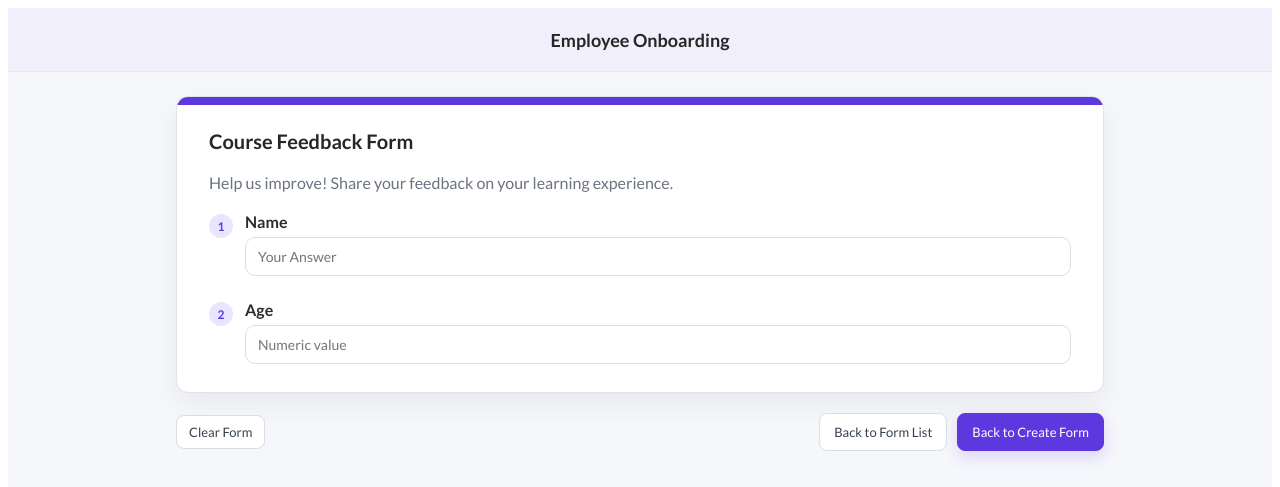
Test: clears form when Clear Form button is clicked
Fill in the form
Type "John Doe" into the field named "name" at (658, 256), box [245,237,1071,276]
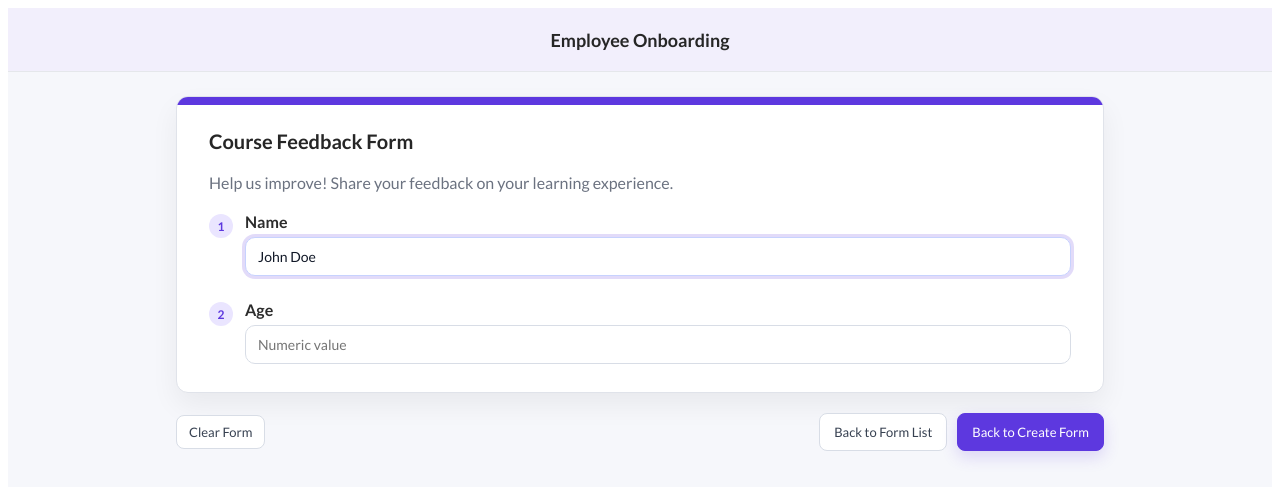
Type "30" into the field named "age" at (658, 344), box [245,325,1071,364]
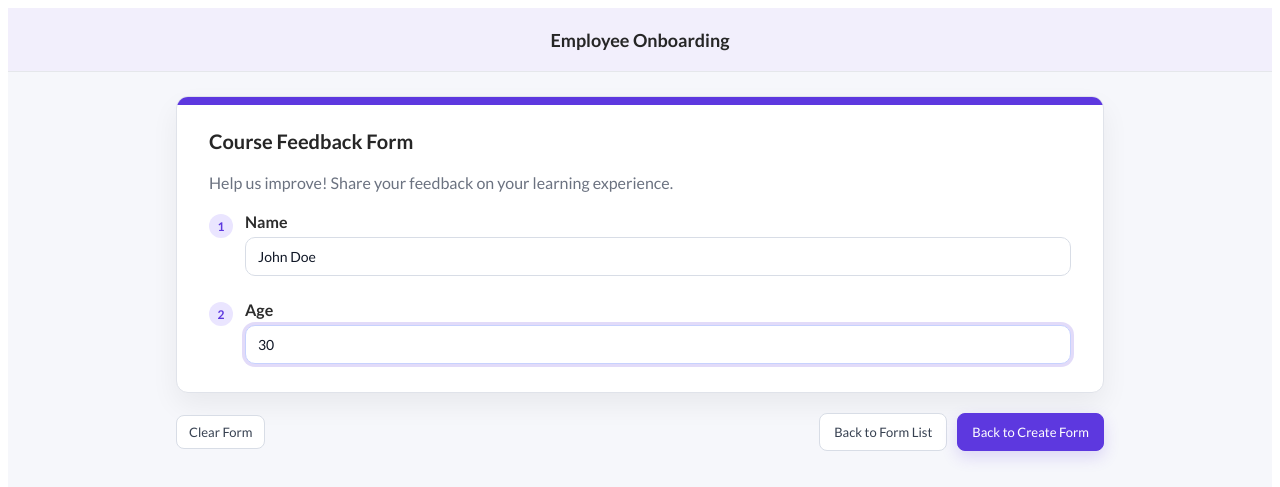
Clear the form
Click the button "Clear Form" at (221, 432), box [176,415,265,449]
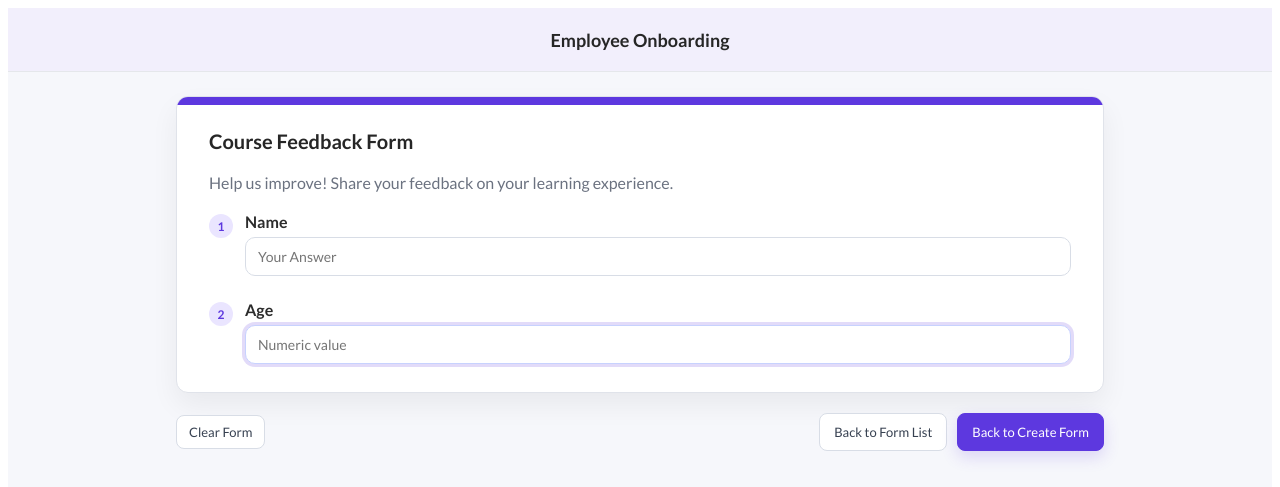
Result: the field named "name" is empty at [245,237,1071,276]
Result: the field named "age" is empty at [245,325,1071,364]
